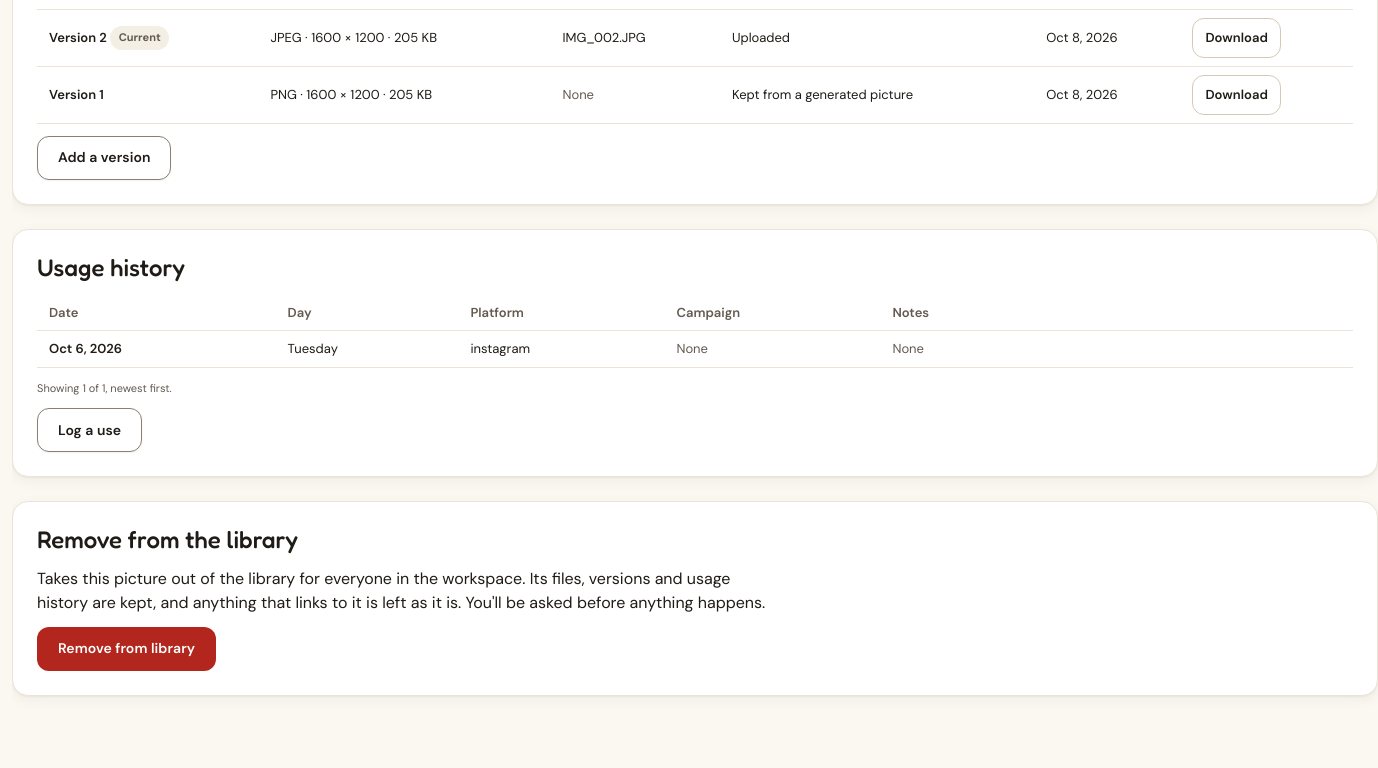
Test: DamAssetDetailComponent › says a picture had already been removed, without claiming to have just done it
This screenshot has width=1378, height=768.
(page scrolled)
Click the button "Remove from library".
click(127, 649)  # box [37,627,216,671]
(page scrolled)
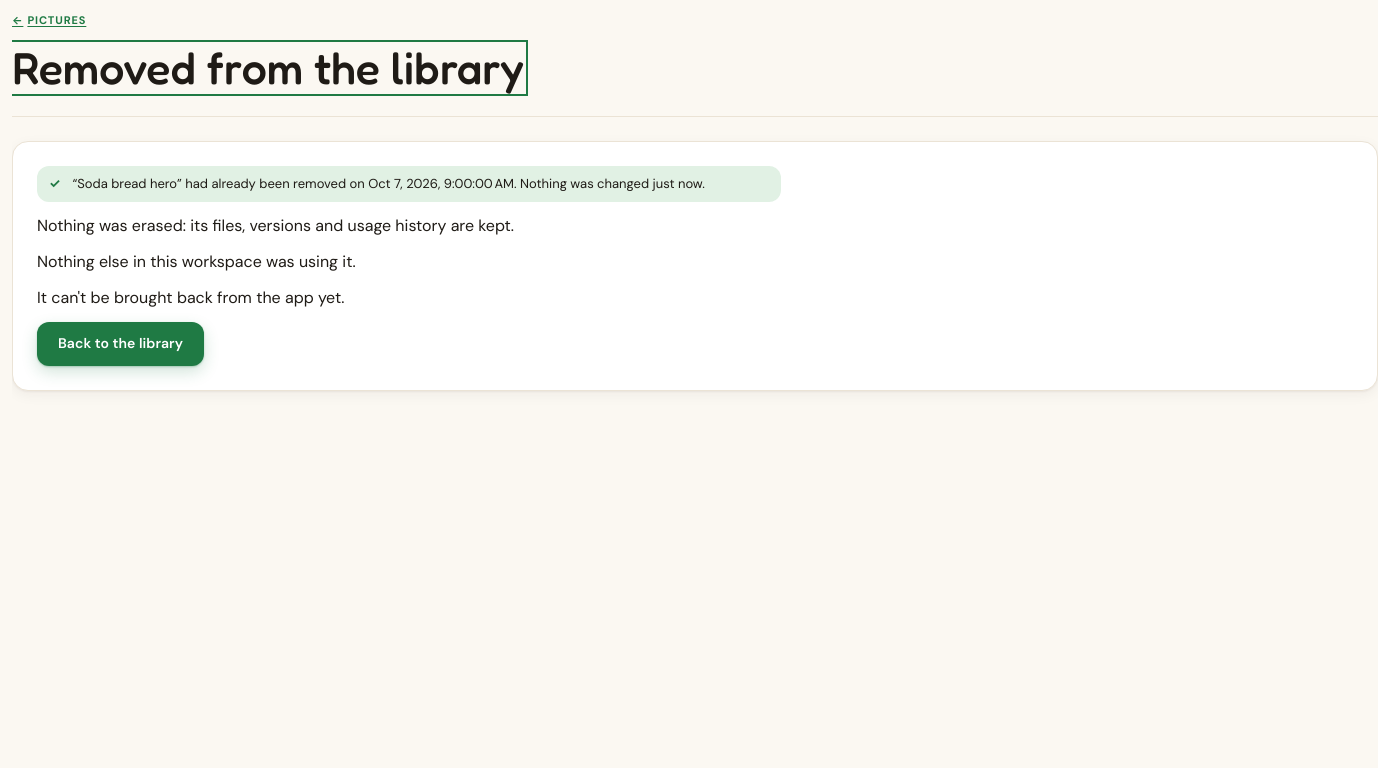
Now the text "had already been removed on Oct 7, 2026" is shown, box [72,175,705,192]
Now the text "Nothing was" is shown, box [72,175,705,192]
